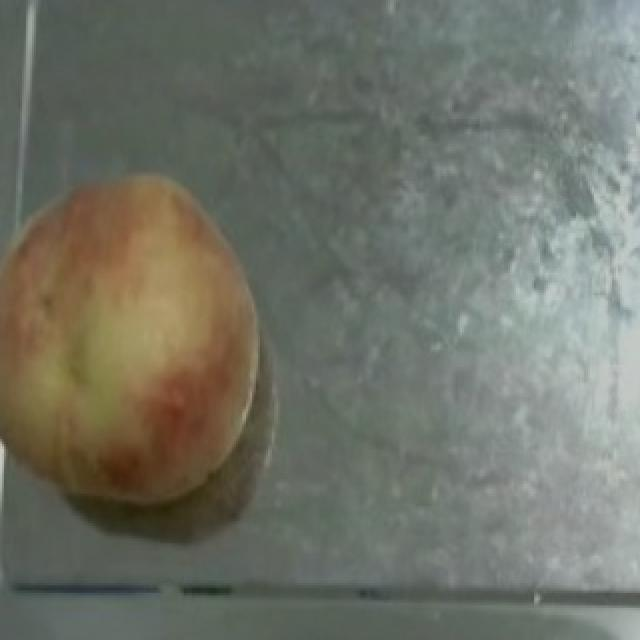Fruit: (0, 154, 272, 459)
